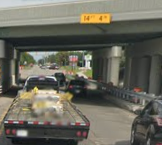1: (82, 13, 86, 23)
4: (85, 12, 90, 24), (97, 14, 103, 23)
overheadsign: (79, 12, 111, 25)
